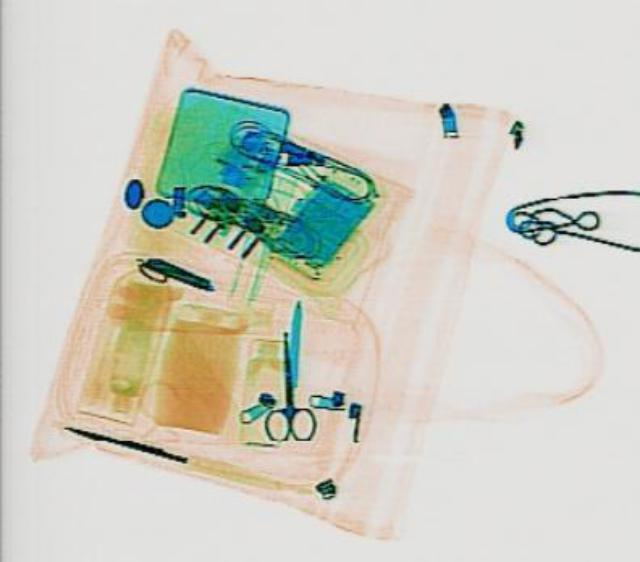Scissors: (257, 328, 313, 439)
